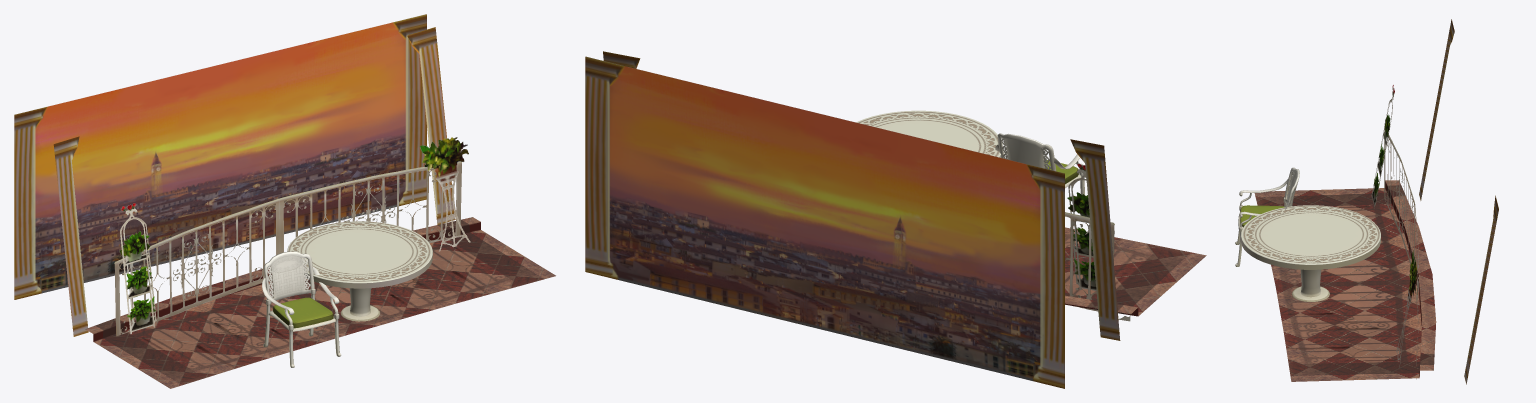
File: 3-map.FBX
3 renders of one model, left to right at view 1: azimuth 30°, elevation 25°; view 2: azimuth 150°, elevation 25°; view 3: azimuth 270°, elevation 25°, orthographic. The views are drawn at different scales.
Visible parts, largest first — view 1: sky, 3-map, 3-a, 3-2, 3-sky, 3-r; view 2: sky, 3-map, 3-sky, 3-2, 3-a, 3-r; view 3: 3-map, 3-2, 3-a, 3-sky, 3-r.
Part boxes in pixels (x1,y1,x2,y2): sky: (14, 14, 426, 299); 3-map: (85, 217, 555, 388); 3-a: (114, 137, 470, 336); 3-2: (287, 221, 432, 321); 3-sky: (53, 27, 455, 336); 3-r: (262, 251, 341, 367); sky: (585, 56, 1064, 388); 3-map: (1065, 227, 1206, 316); 3-sky: (603, 51, 1120, 340); 3-2: (856, 110, 1002, 157); 3-a: (1065, 163, 1130, 321); 3-r: (995, 133, 1085, 195); 3-map: (1254, 180, 1436, 381); 3-2: (1240, 205, 1380, 301); 3-a: (1371, 85, 1418, 379); 3-sky: (1419, 19, 1498, 384); 3-r: (1235, 167, 1299, 266).
Bounding box in the file's own units: 1570 × 713 × 960.
